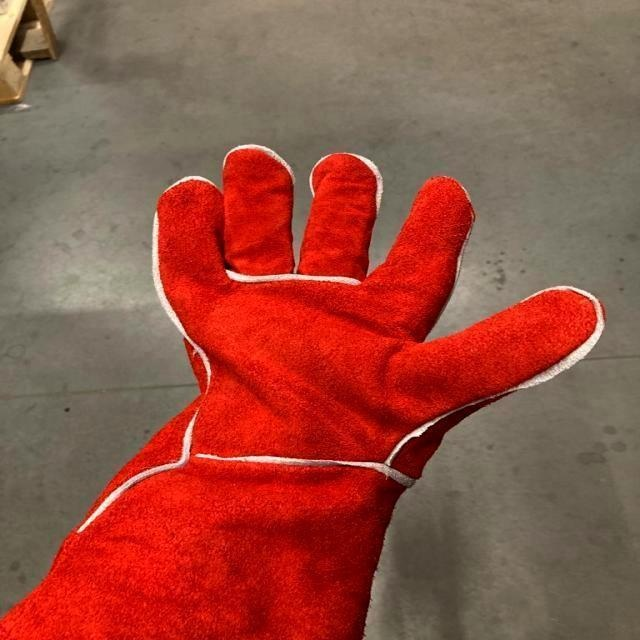Guantes: (0, 142, 606, 639)
